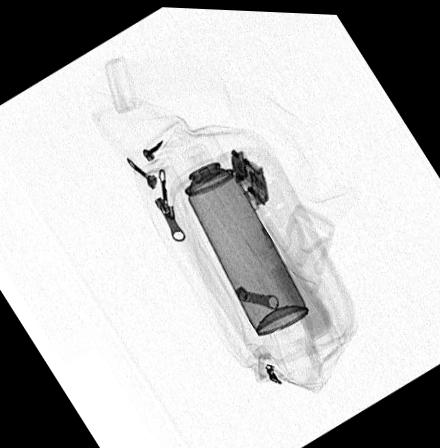Sprayer: (164, 124, 309, 333)
